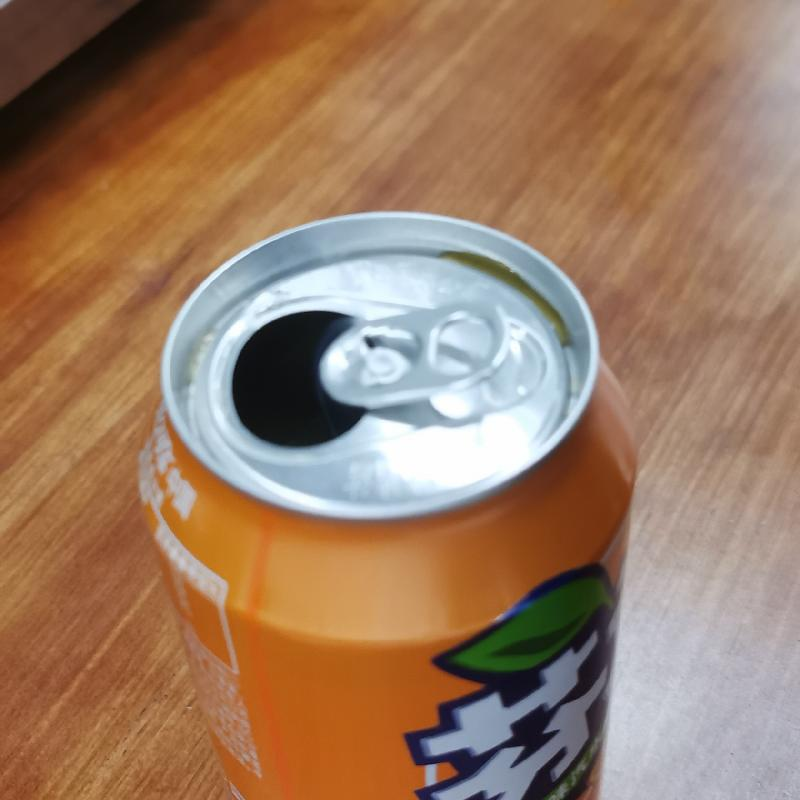cans: (133, 204, 644, 799)
